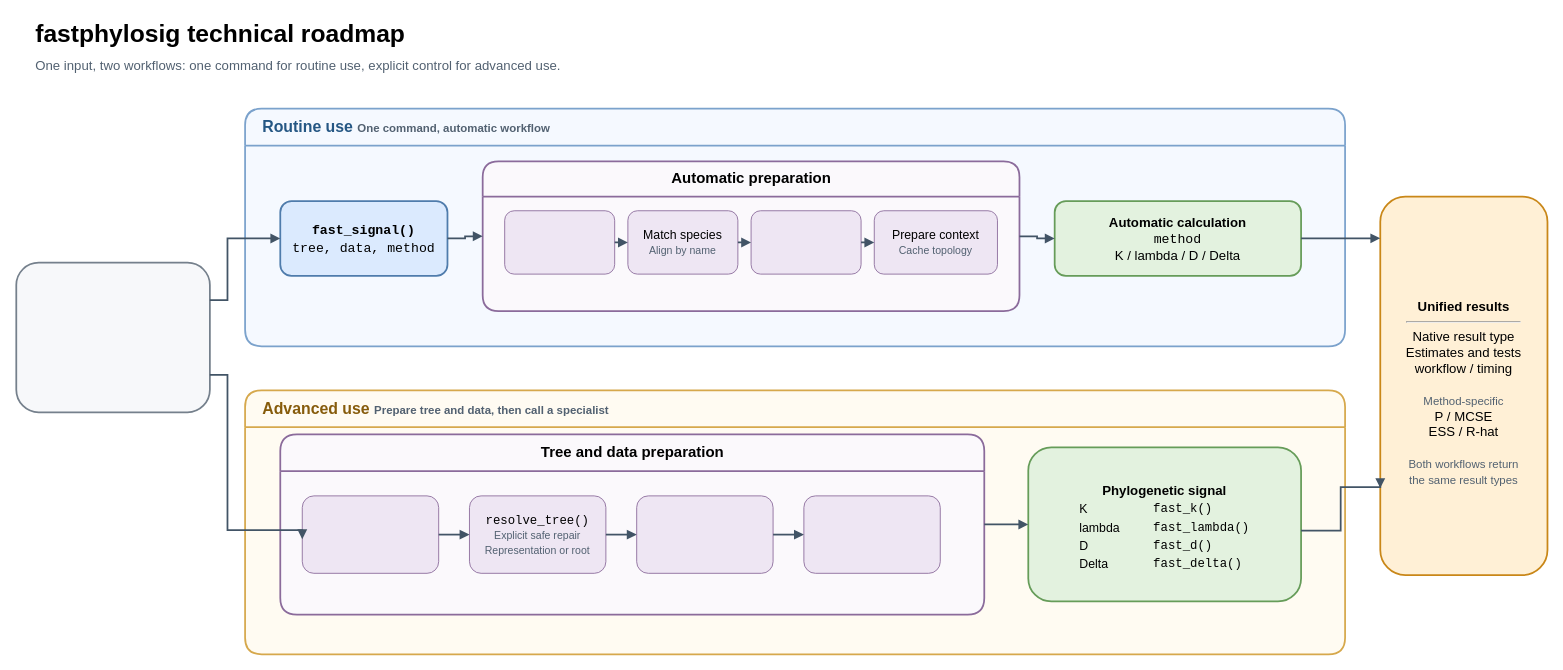
Some shapes in this 1563 by 670 pixel diagram are drawn without their labels. The centre of each missing label's shape, as x and y in pixels:
"Check tree Method readiness" goes at (x=559, y=242).
"check_tree() Check requirements" goes at (x=370, y=534).
"Common input phylo tree Named trait data Feeds both workflows" goes at (x=112, y=337).
"Handle NA Per-trait subset" goes at (x=805, y=242).
"match_tree_data() Record matching" goes at (x=704, y=534).
"prepare_tree() Reusable context" goes at (x=871, y=534).
